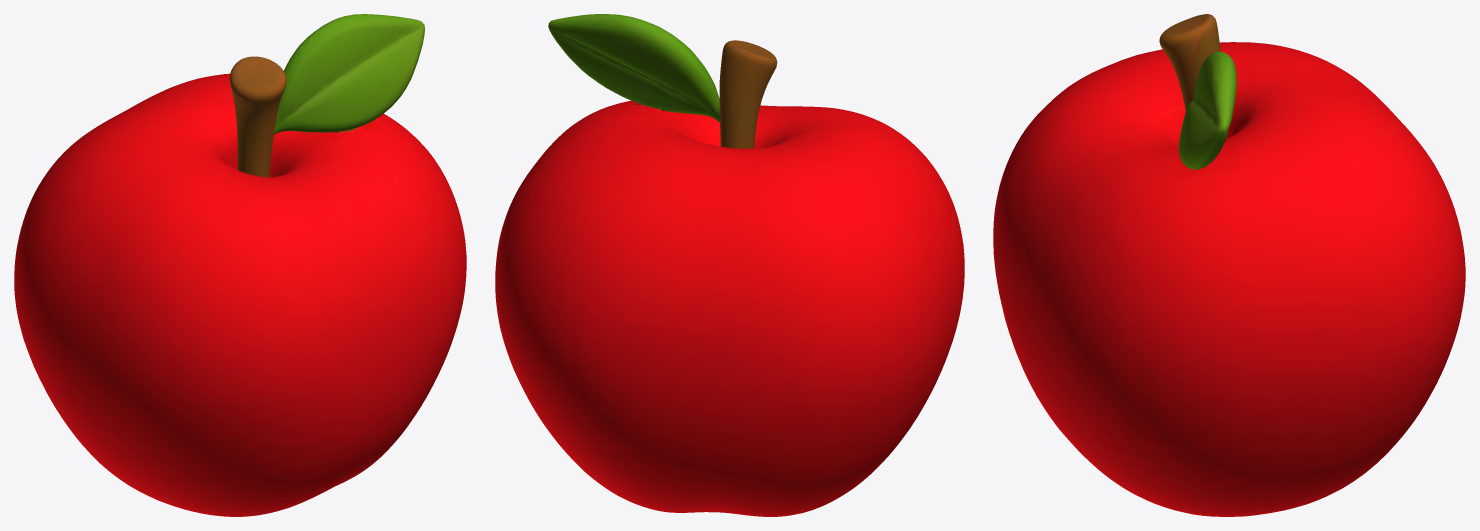
File: apple.glb
3 views of the same model, side by side, from view 1: azimuth 30°, elevation 25°; view 2: azimuth 150°, elevation 25°; view 3: azimuth 270°, elevation 25° (orthographic). The views are drawn at different scales.
Visible parts, largest first — view 1: tripo_node_a0795748-1065-4e6b-a506-733daa7ce89c; view 2: tripo_node_a0795748-1065-4e6b-a506-733daa7ce89c; view 3: tripo_node_a0795748-1065-4e6b-a506-733daa7ce89c.
Boxes of the visible parts, bbox=[...] form: tripo_node_a0795748-1065-4e6b-a506-733daa7ce89c: bbox=[14, 14, 466, 516]; tripo_node_a0795748-1065-4e6b-a506-733daa7ce89c: bbox=[495, 14, 964, 516]; tripo_node_a0795748-1065-4e6b-a506-733daa7ce89c: bbox=[993, 14, 1465, 516].
Size of the model in its own units: 0.9166 by 0.9803 by 0.8815.
1 material, 1 textured.
